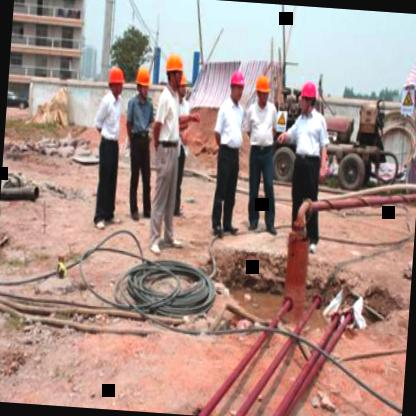helmet: (164, 48, 186, 94), (104, 62, 127, 99), (298, 78, 319, 115), (253, 70, 274, 106), (226, 69, 247, 104), (134, 63, 152, 99)
